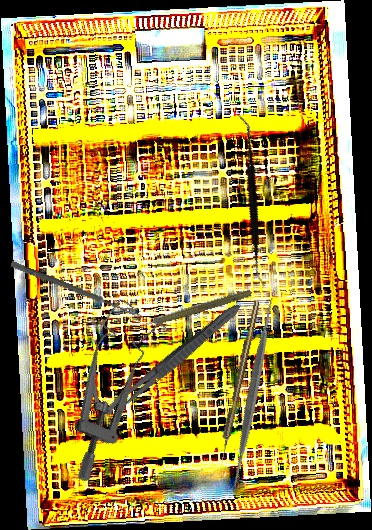Dressing Forceps: (106, 298, 246, 419)
Handpiece: (133, 284, 253, 334)
Hook Surgical: (216, 300, 262, 463)
Spatula Surgical: (154, 292, 353, 492), (170, 113, 333, 288)
Speculum: (23, 292, 187, 486)
Surgical Spoon: (9, 260, 144, 321)
